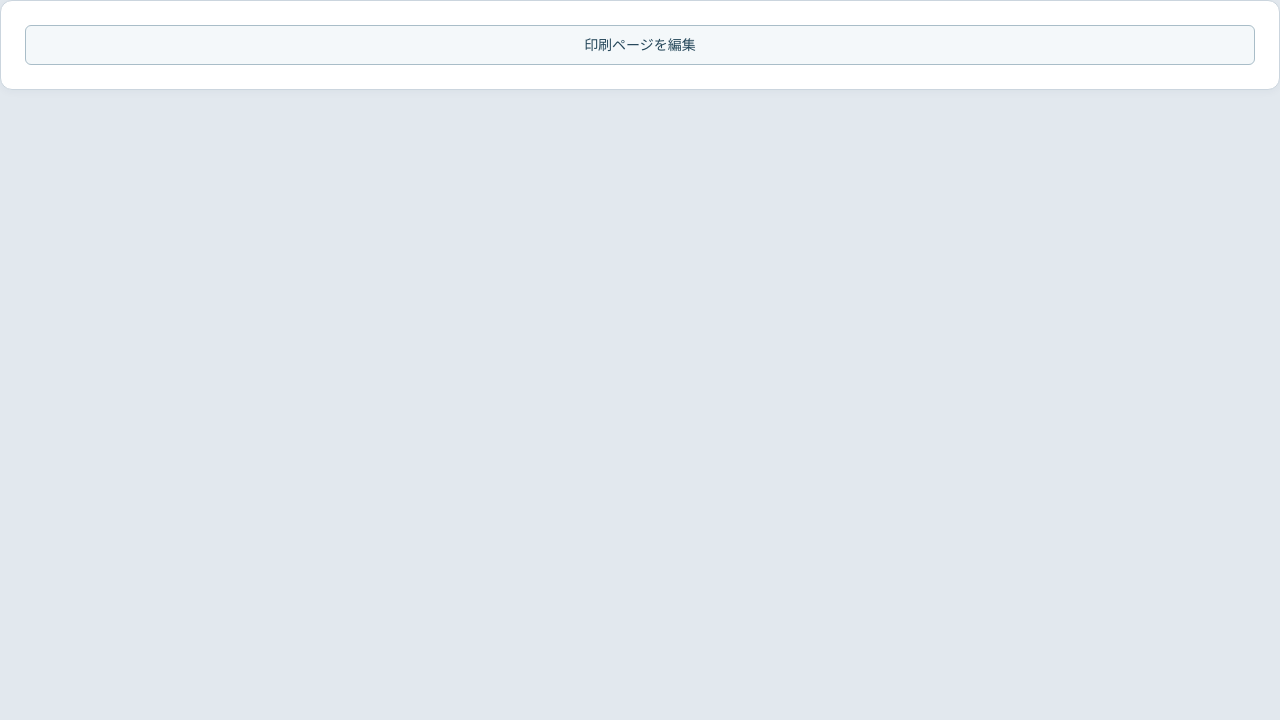
Test: 印刷ページ編集 › zooms a long continuous sheet without changing page settings
The width and height of the screenshot is (1280, 720).
Later steps or results of the test are not shown.
Click the button "印刷ページを編集" at [640, 45], box [25,25,1255,65]
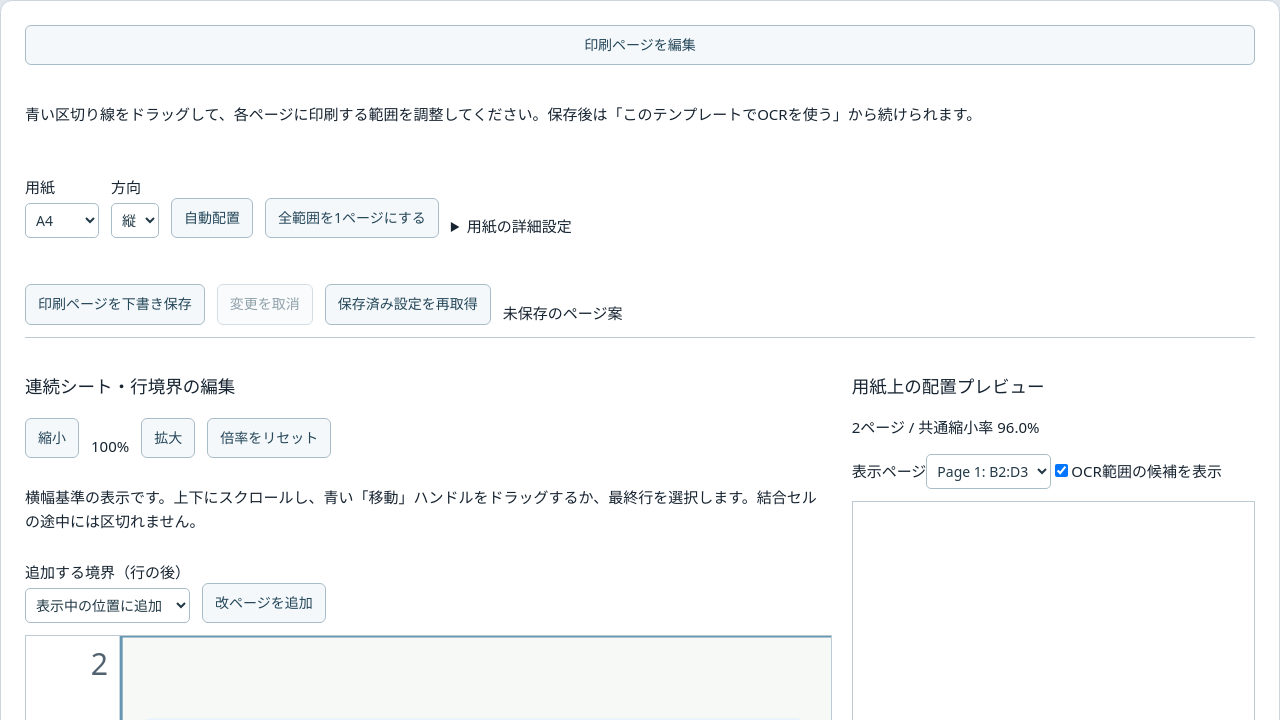
expect the text "2ページ / 共通縮小率 96.0%" is shown: met, box [852,417,1040,437]
Click the button "拡大" at [168, 438], box [141,418,195,458]
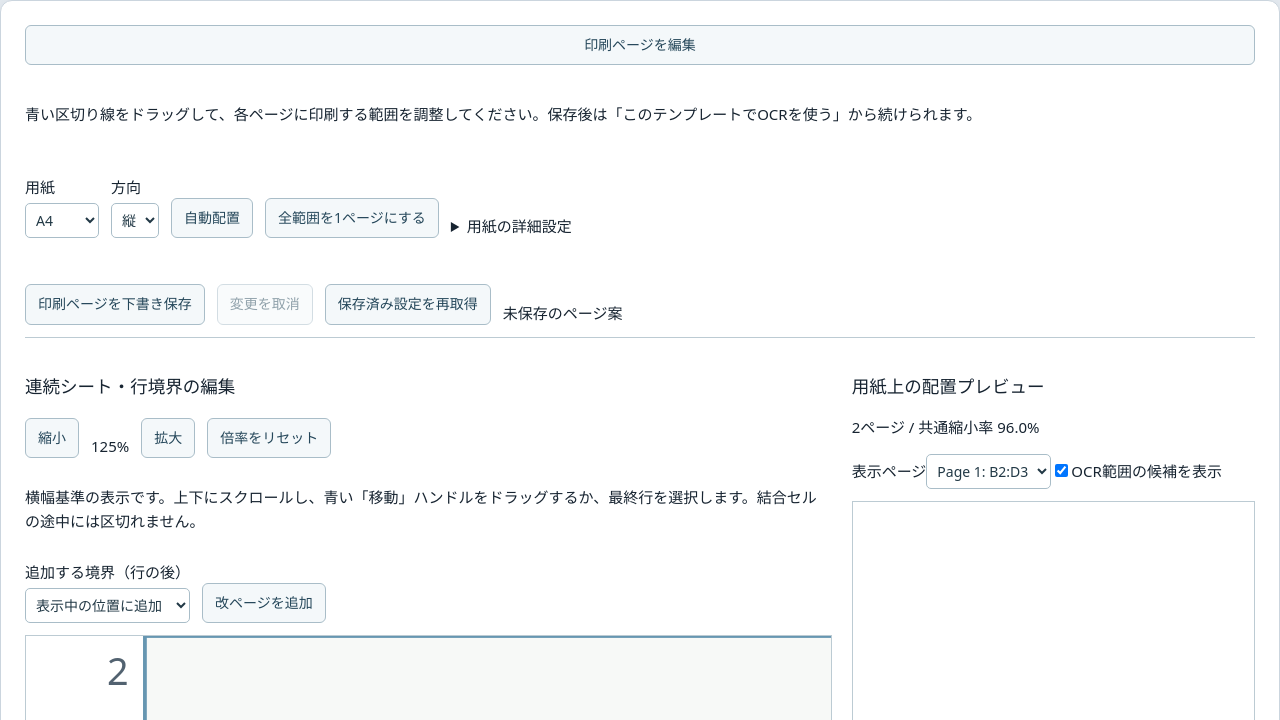
expect the text named "表示倍率" reads "125%": met, box [91,434,129,458]
